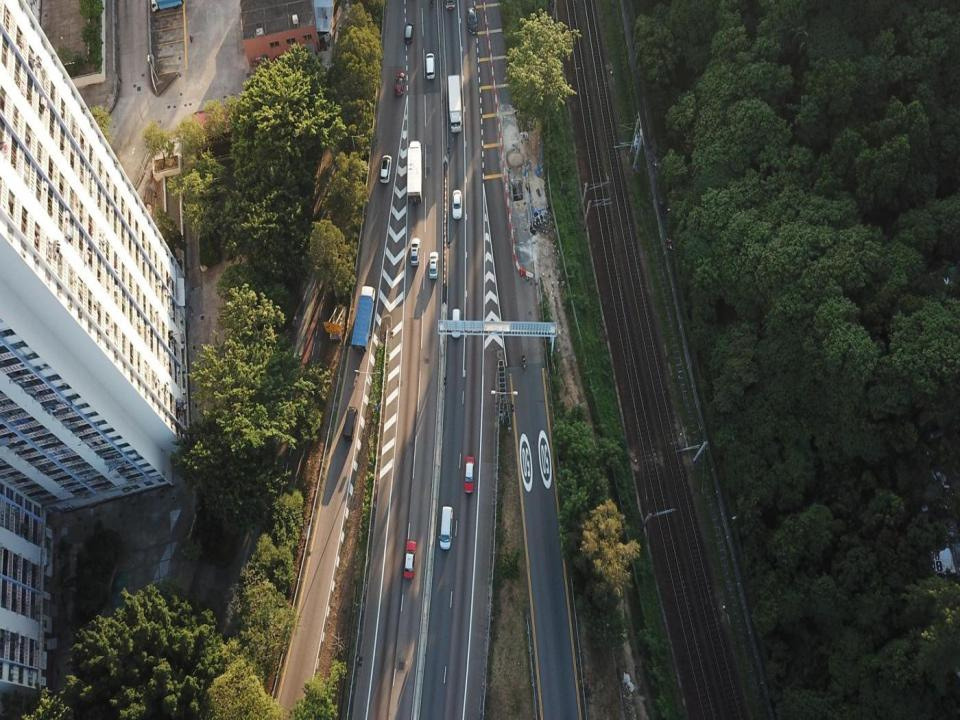car: (403, 541, 416, 580), (464, 454, 475, 495), (380, 154, 392, 182), (394, 71, 405, 97), (452, 190, 462, 218), (428, 251, 438, 279), (410, 238, 419, 266), (468, 6, 477, 33)
truck: (351, 287, 377, 353), (406, 140, 422, 204), (446, 74, 463, 132)
van: (439, 505, 454, 551), (344, 408, 357, 439), (425, 53, 436, 79), (452, 310, 461, 341), (404, 22, 414, 44)
